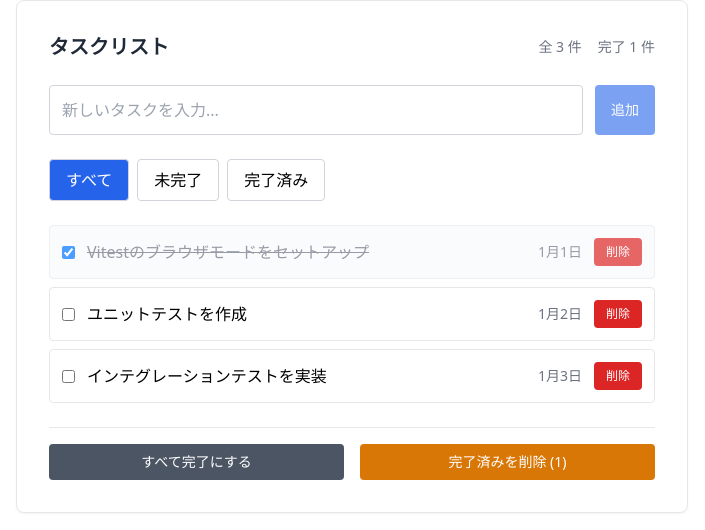
Scenario: TaskList コンポーネント › 一括操作 › 「すべて完了にする」ボタンで全タスクを完了状態にできる
Click the button with test id "check-all-btn". click: (196, 462)
box: [49, 444, 344, 480]
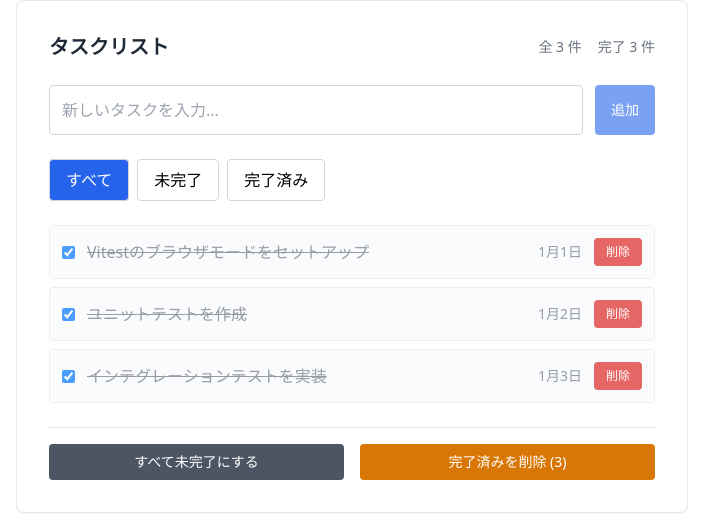
Expected: the text with test id "completed-tasks" reads "完了 3 件", [598, 37, 655, 56]
